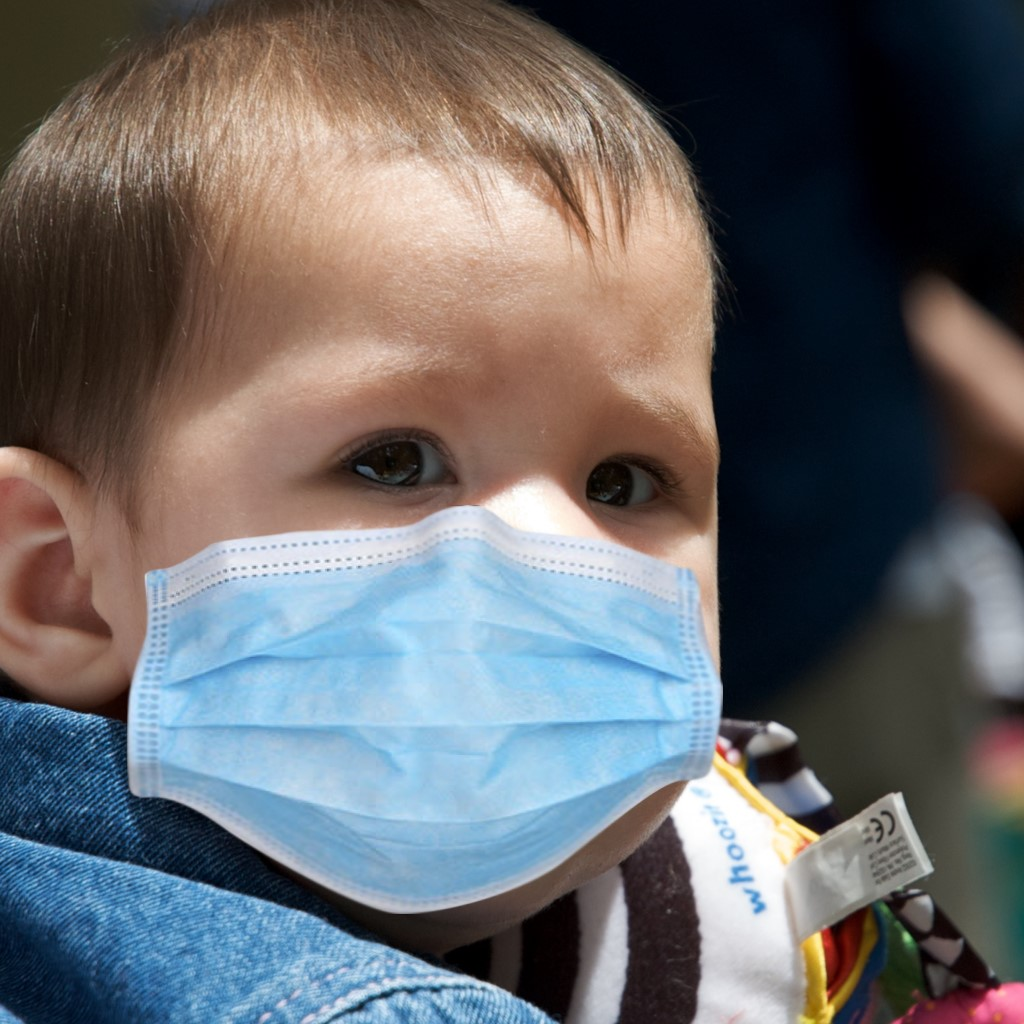con_mascara: (99, 156, 740, 917)
